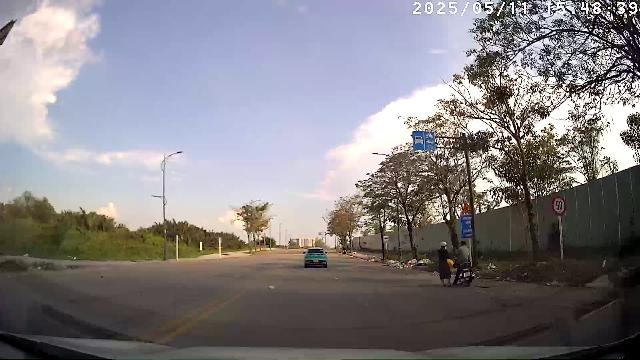127-toc-do-toi-da-50: (552, 196, 566, 216)
